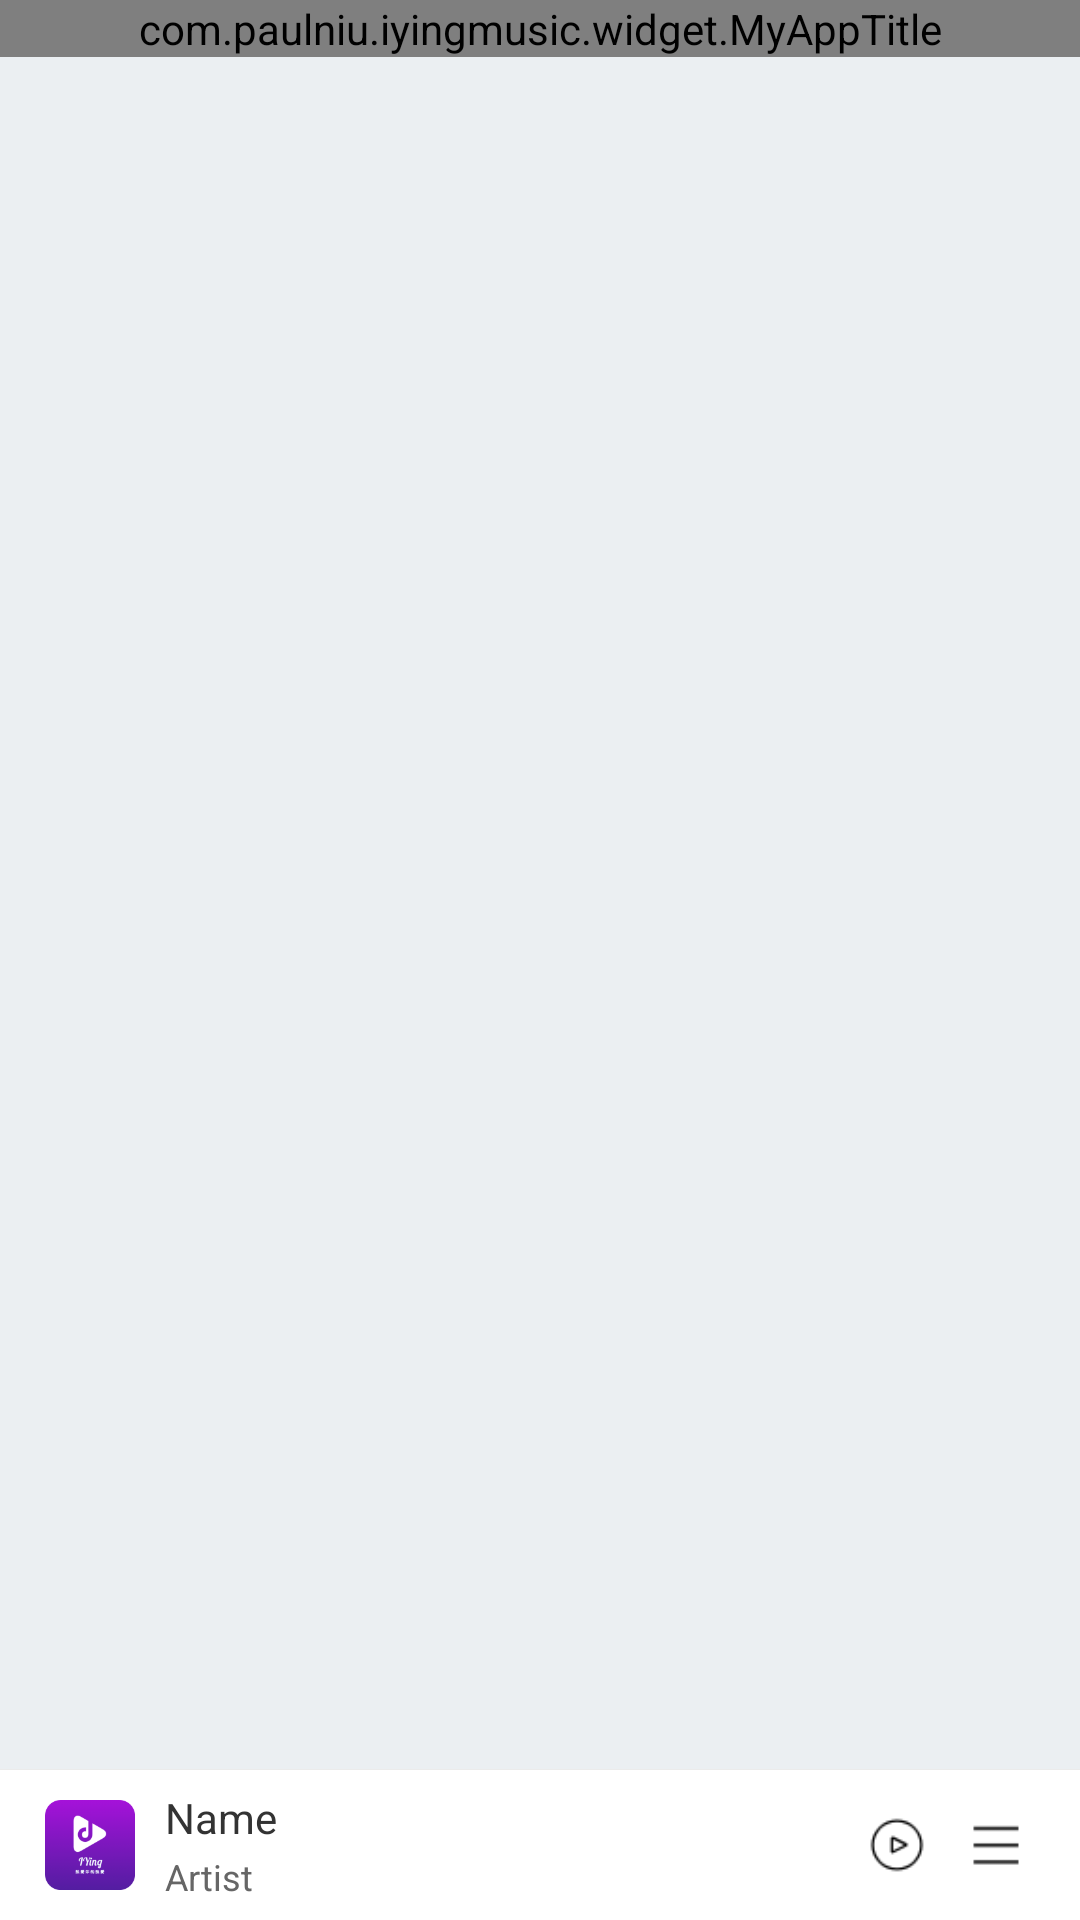

Point at icon controls on the screen. Image size 1080*1920, points as point (x, y).
music play: point (897, 1845)
